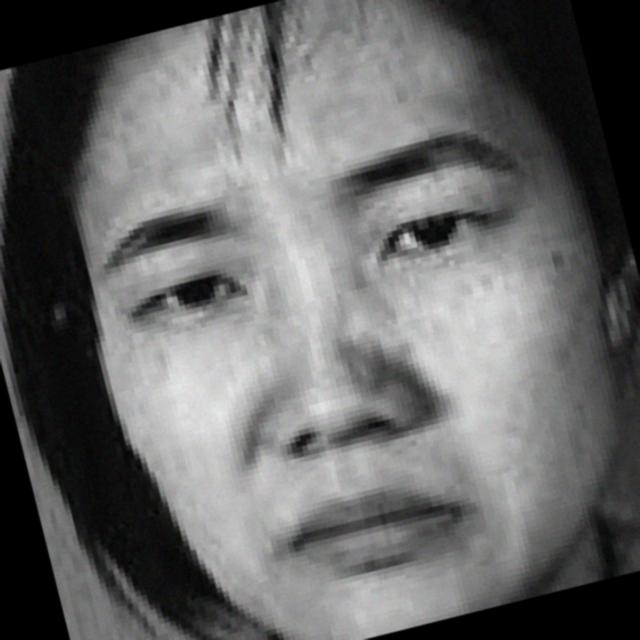disgust: (31, 6, 629, 640)
